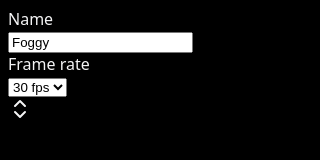
Test: InsetForm › controlled and uncontrolled rows
Later steps or results of the test are not shown.
Step 1. Type " Stickers" into the field labelled "Name" → (100, 42), box x1=8 y1=32 x2=193 y2=53
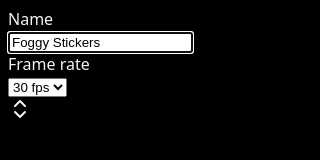
Check: the dropdown labelled "Frame rate" shows "30 fps", box x1=8 y1=78 x2=67 y2=97
Check: the field labelled "Name" holds "Foggy Stickers", box x1=8 y1=32 x2=193 y2=53
